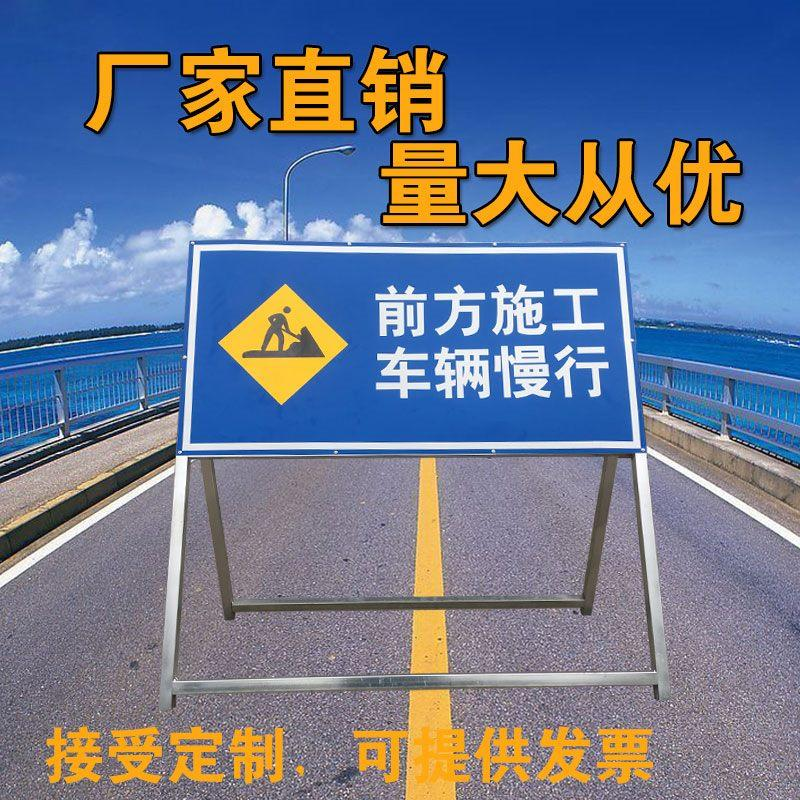sign: (197, 247, 632, 452)
